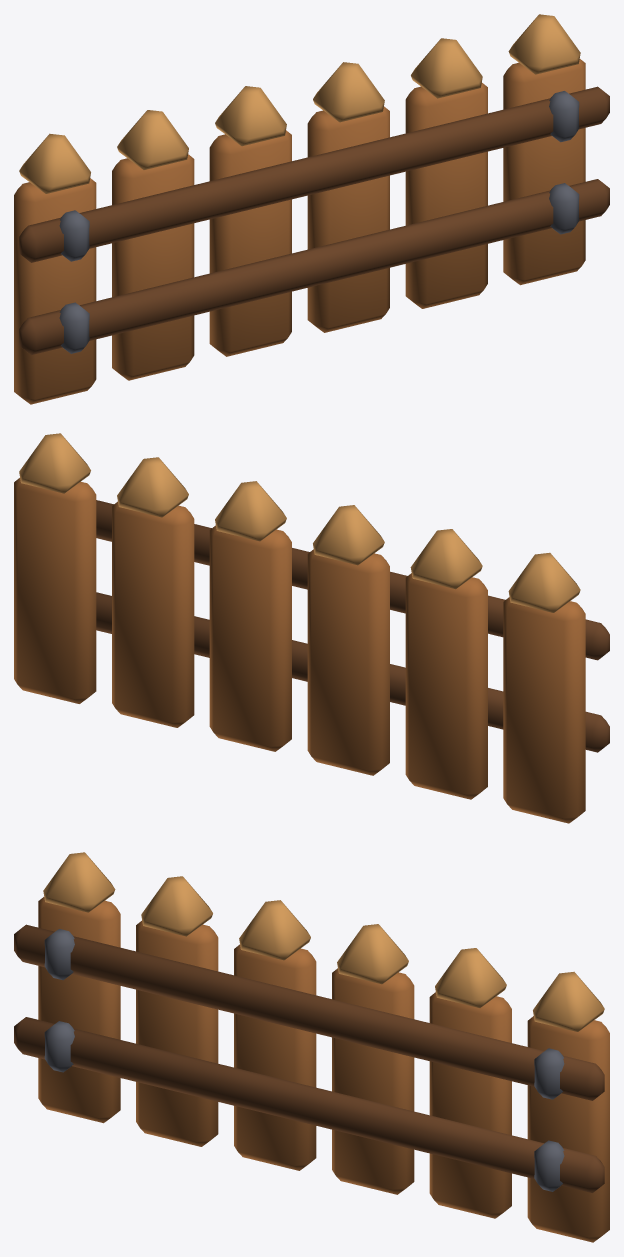
Rendered from B_MedFence.fbx.
3 renders of one model, top to bottom at view 1: azimuth 30°, elevation 25°; view 2: azimuth 150°, elevation 25°; view 3: azimuth 330°, elevation 25°, orthographic.
Visible parts, largest first — view 1: M_Fence; view 2: M_Fence; view 3: M_Fence.
Part boxes in pixels (x1,y1,x2,y2): M_Fence: [14, 14, 609, 404]; M_Fence: [14, 433, 609, 823]; M_Fence: [14, 852, 609, 1242].
Size of the model in its own units: 3 by 1.25 by 0.3648.
Materials: 1 (1 with a texture image).
